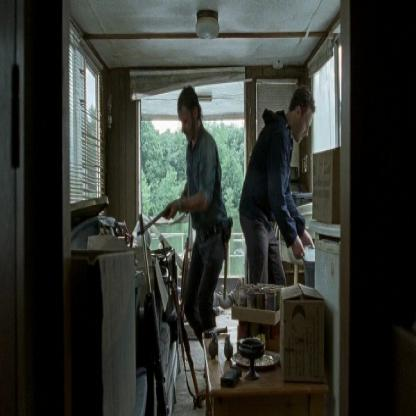Guns: (160, 237, 206, 411), (135, 187, 189, 240)
